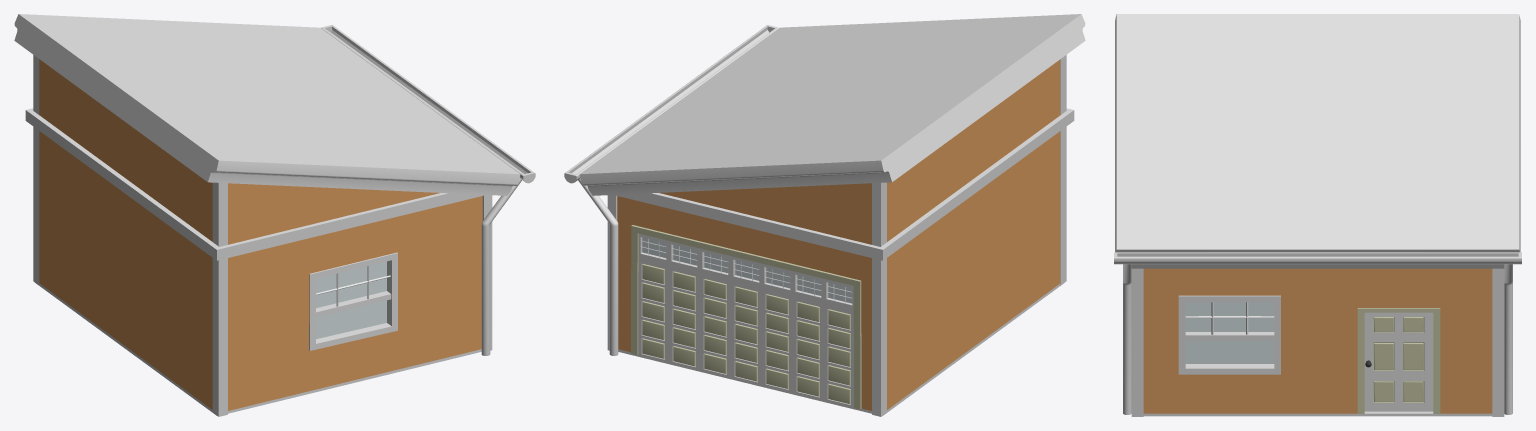
The picture shows the model from 3 angles, left to right: view 1: azimuth 30°, elevation 25°; view 2: azimuth 150°, elevation 25°; view 3: azimuth 270°, elevation 25°; orthographic projection.
Parts seen in each view (by area): view 1: Cube.013; view 2: Cube.013; view 3: Cube.013.
Boxes of the visible parts, x1,y1,x2,y2 form: Cube.013: (14,14,535,416); Cube.013: (564,14,1085,416); Cube.013: (1114,14,1521,416).
Size of the model in its own units: 14.53 by 11.34 by 15.79.
